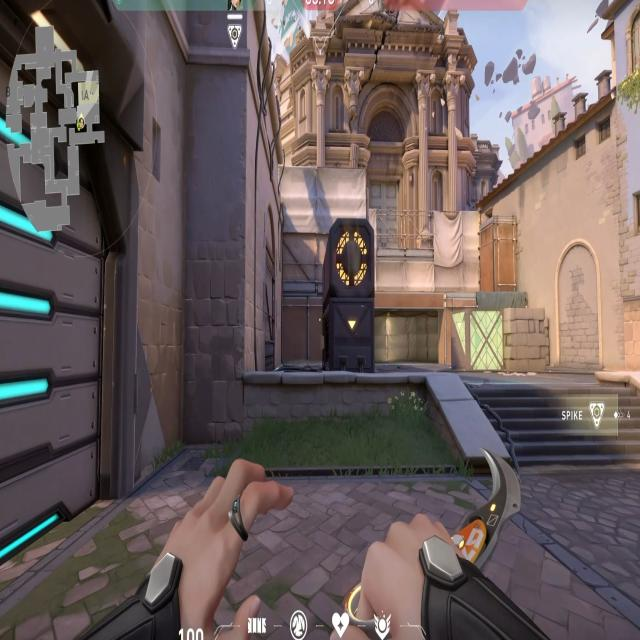A_Door: (0, 0, 148, 580)
A_Heaven_Box: (480, 219, 518, 290)
A_Heaven_Wall: (279, 162, 367, 243)
A_Hell: (375, 288, 452, 374)
A_Site_Box: (451, 307, 551, 374)
